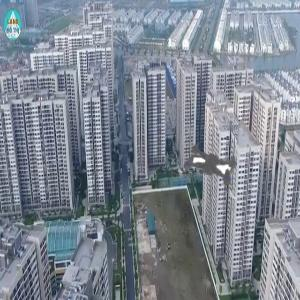drone: (146, 100, 273, 227)
